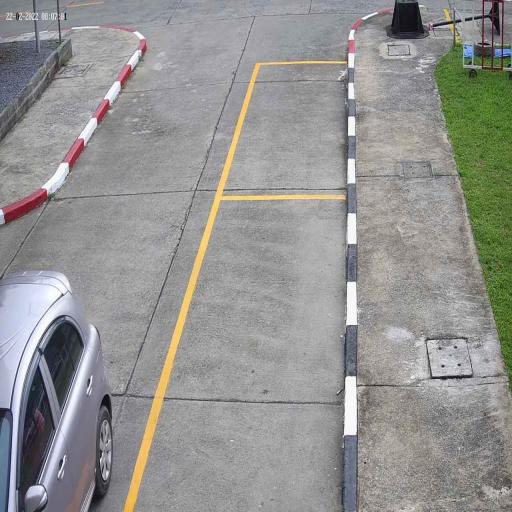car: (0, 269, 114, 512)
